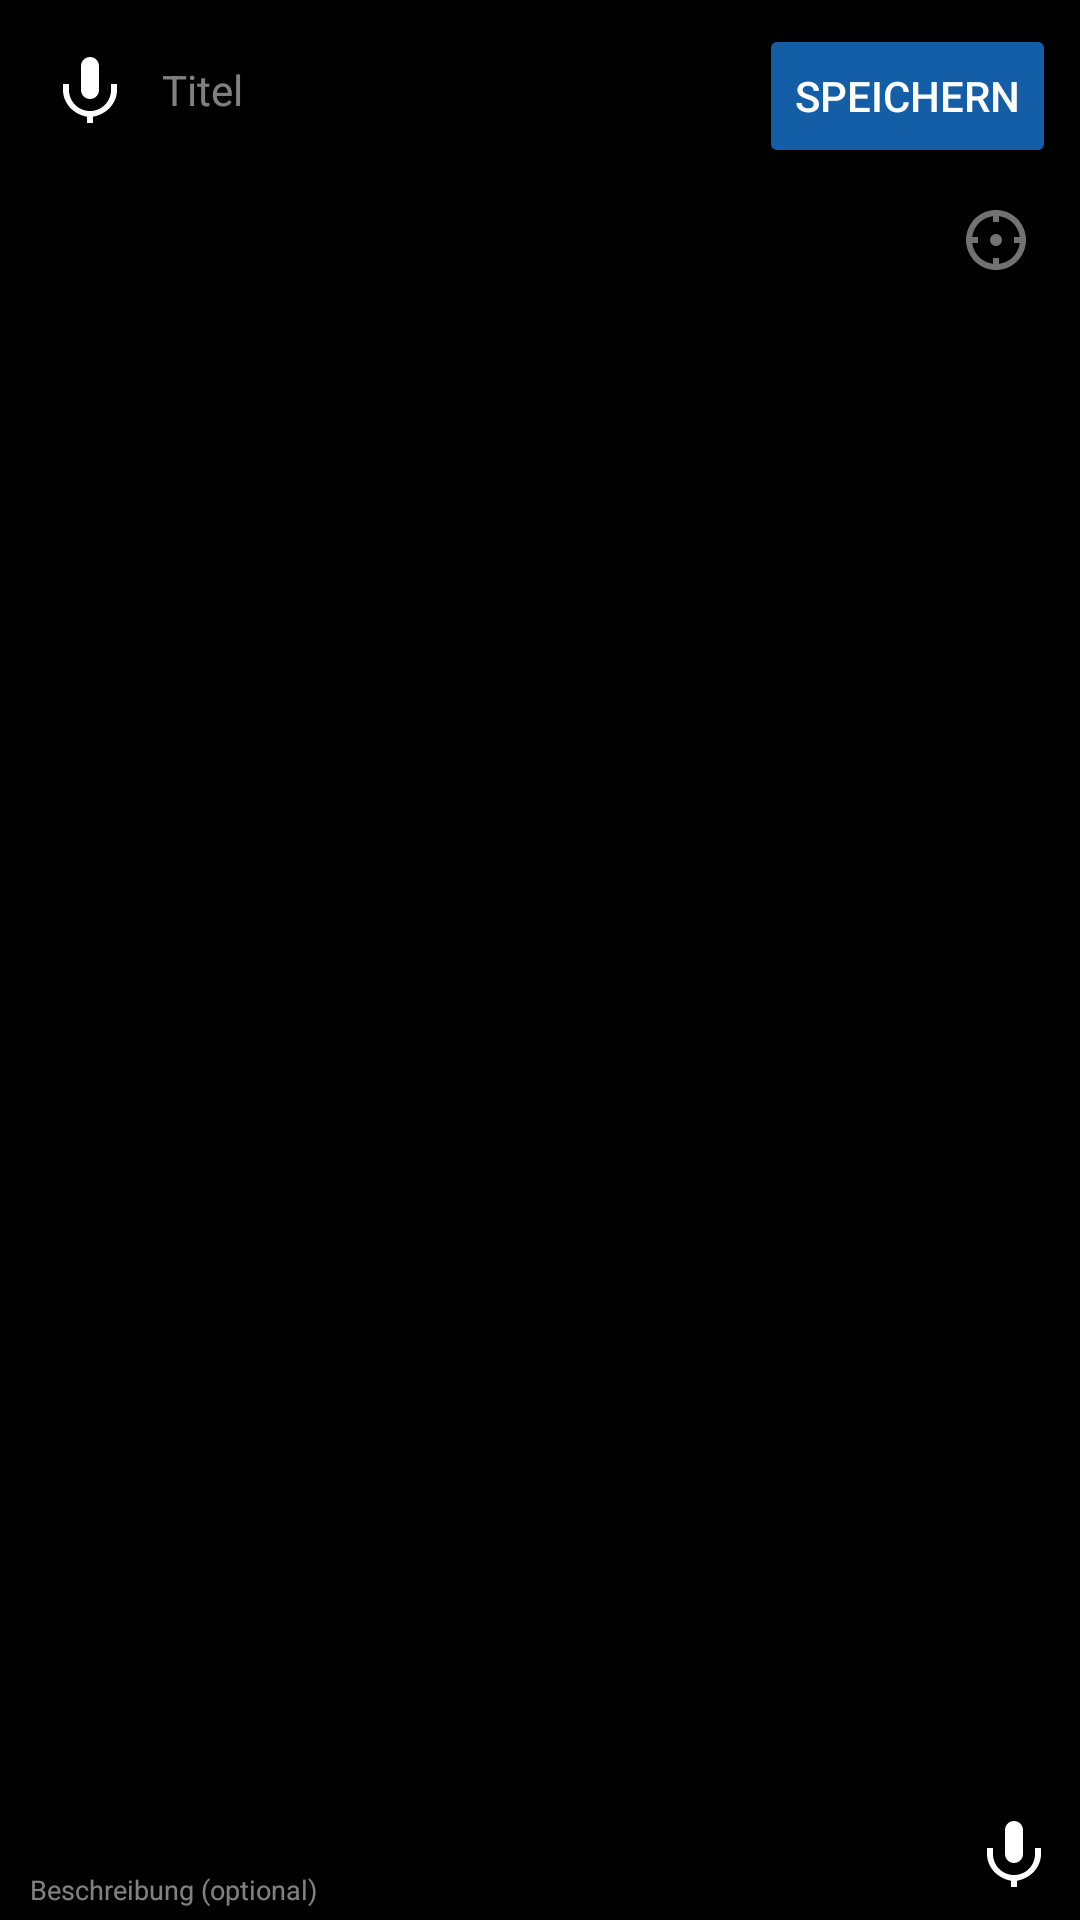

Locate icon controls on the screen. Image size 1080 x 1920, boxes as (x1, y1, x2, y2).
Beschreibung per Sprache eingeben: (987, 1821, 1041, 1887)
GPS-Koordinaten ein/aus: (966, 210, 1026, 270)
